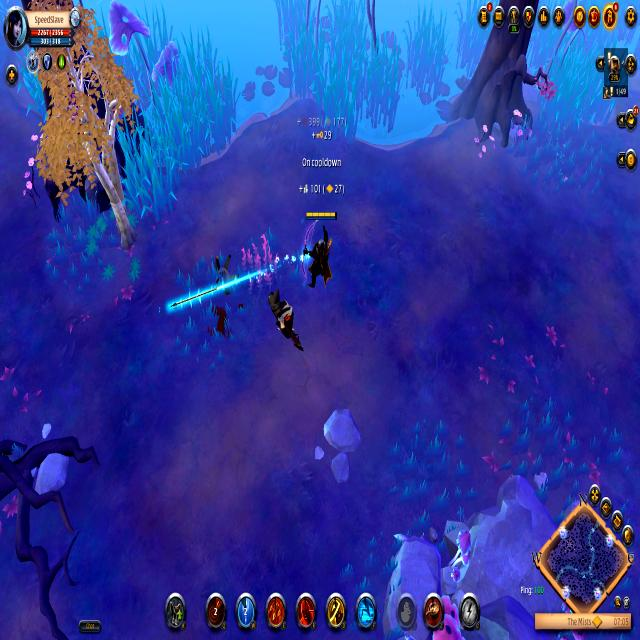red: (297, 204, 342, 293)
wisp caged: (12, 0, 142, 252)
